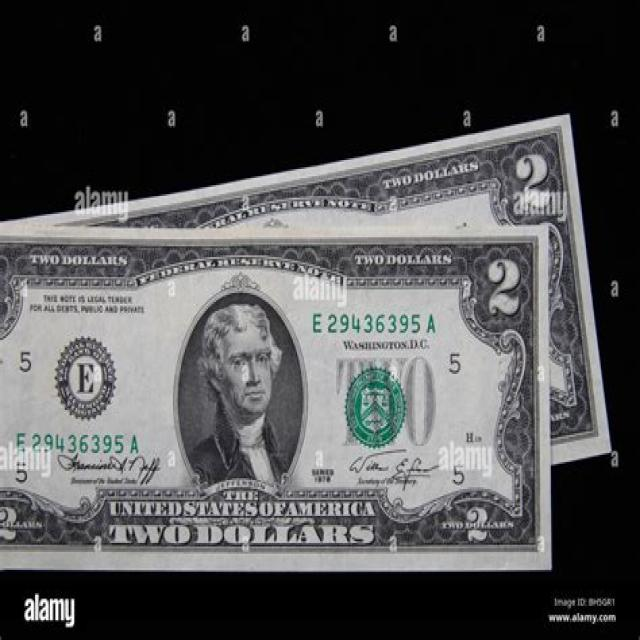Two: (0, 230, 548, 567)
